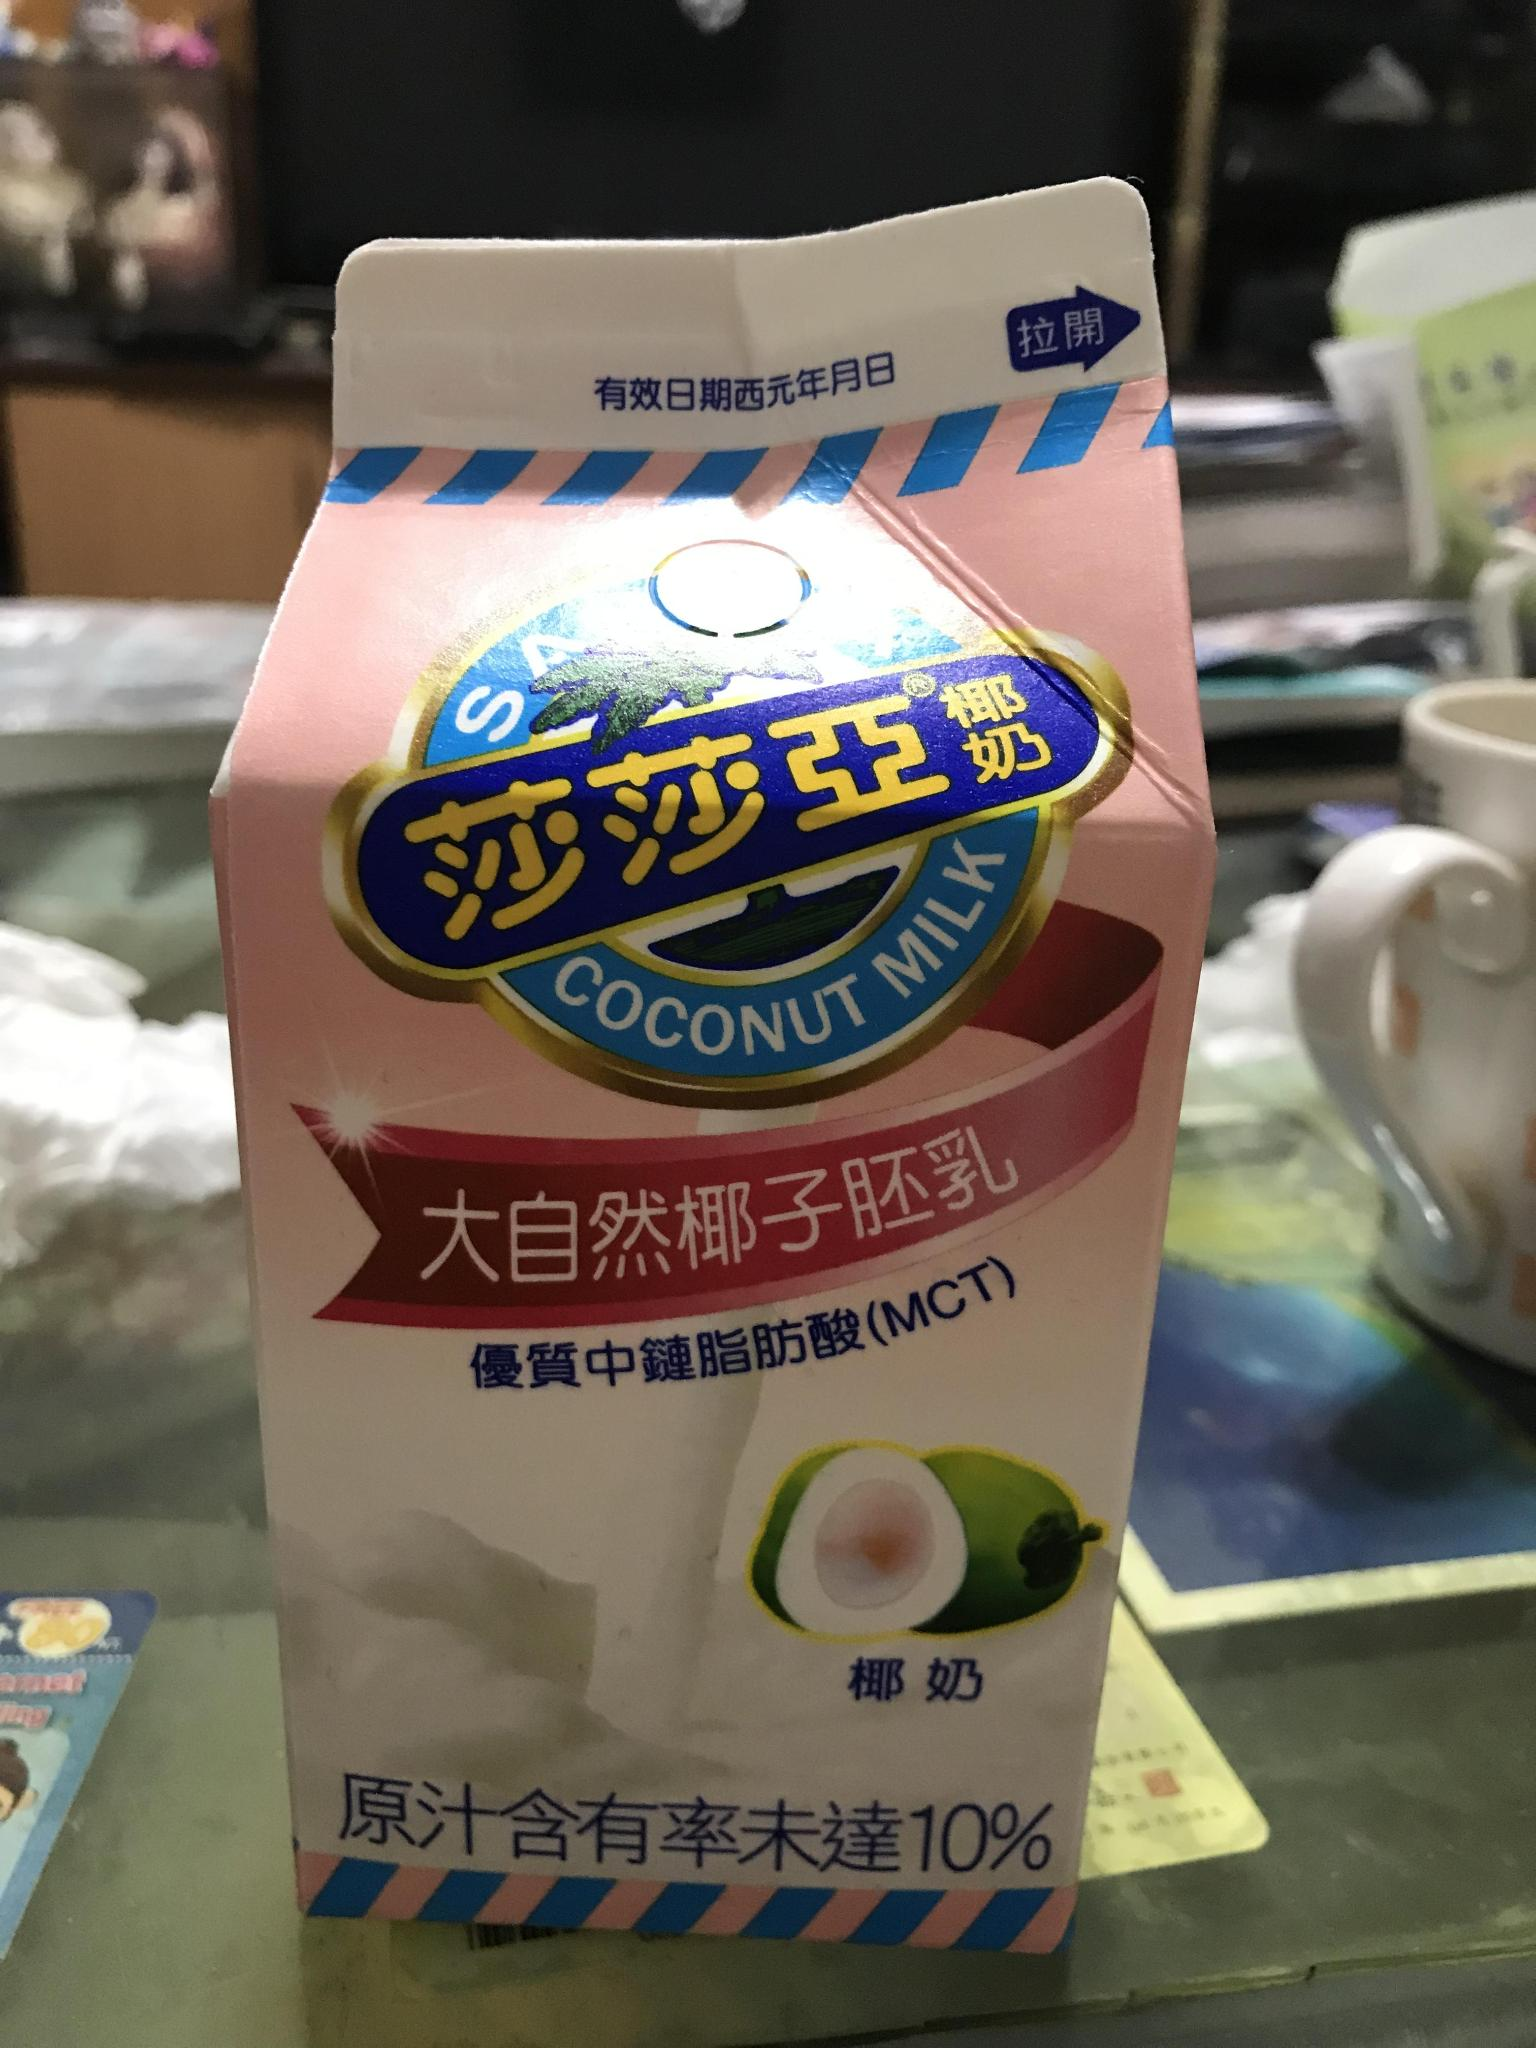cardboard: (216, 179, 1210, 1950)
